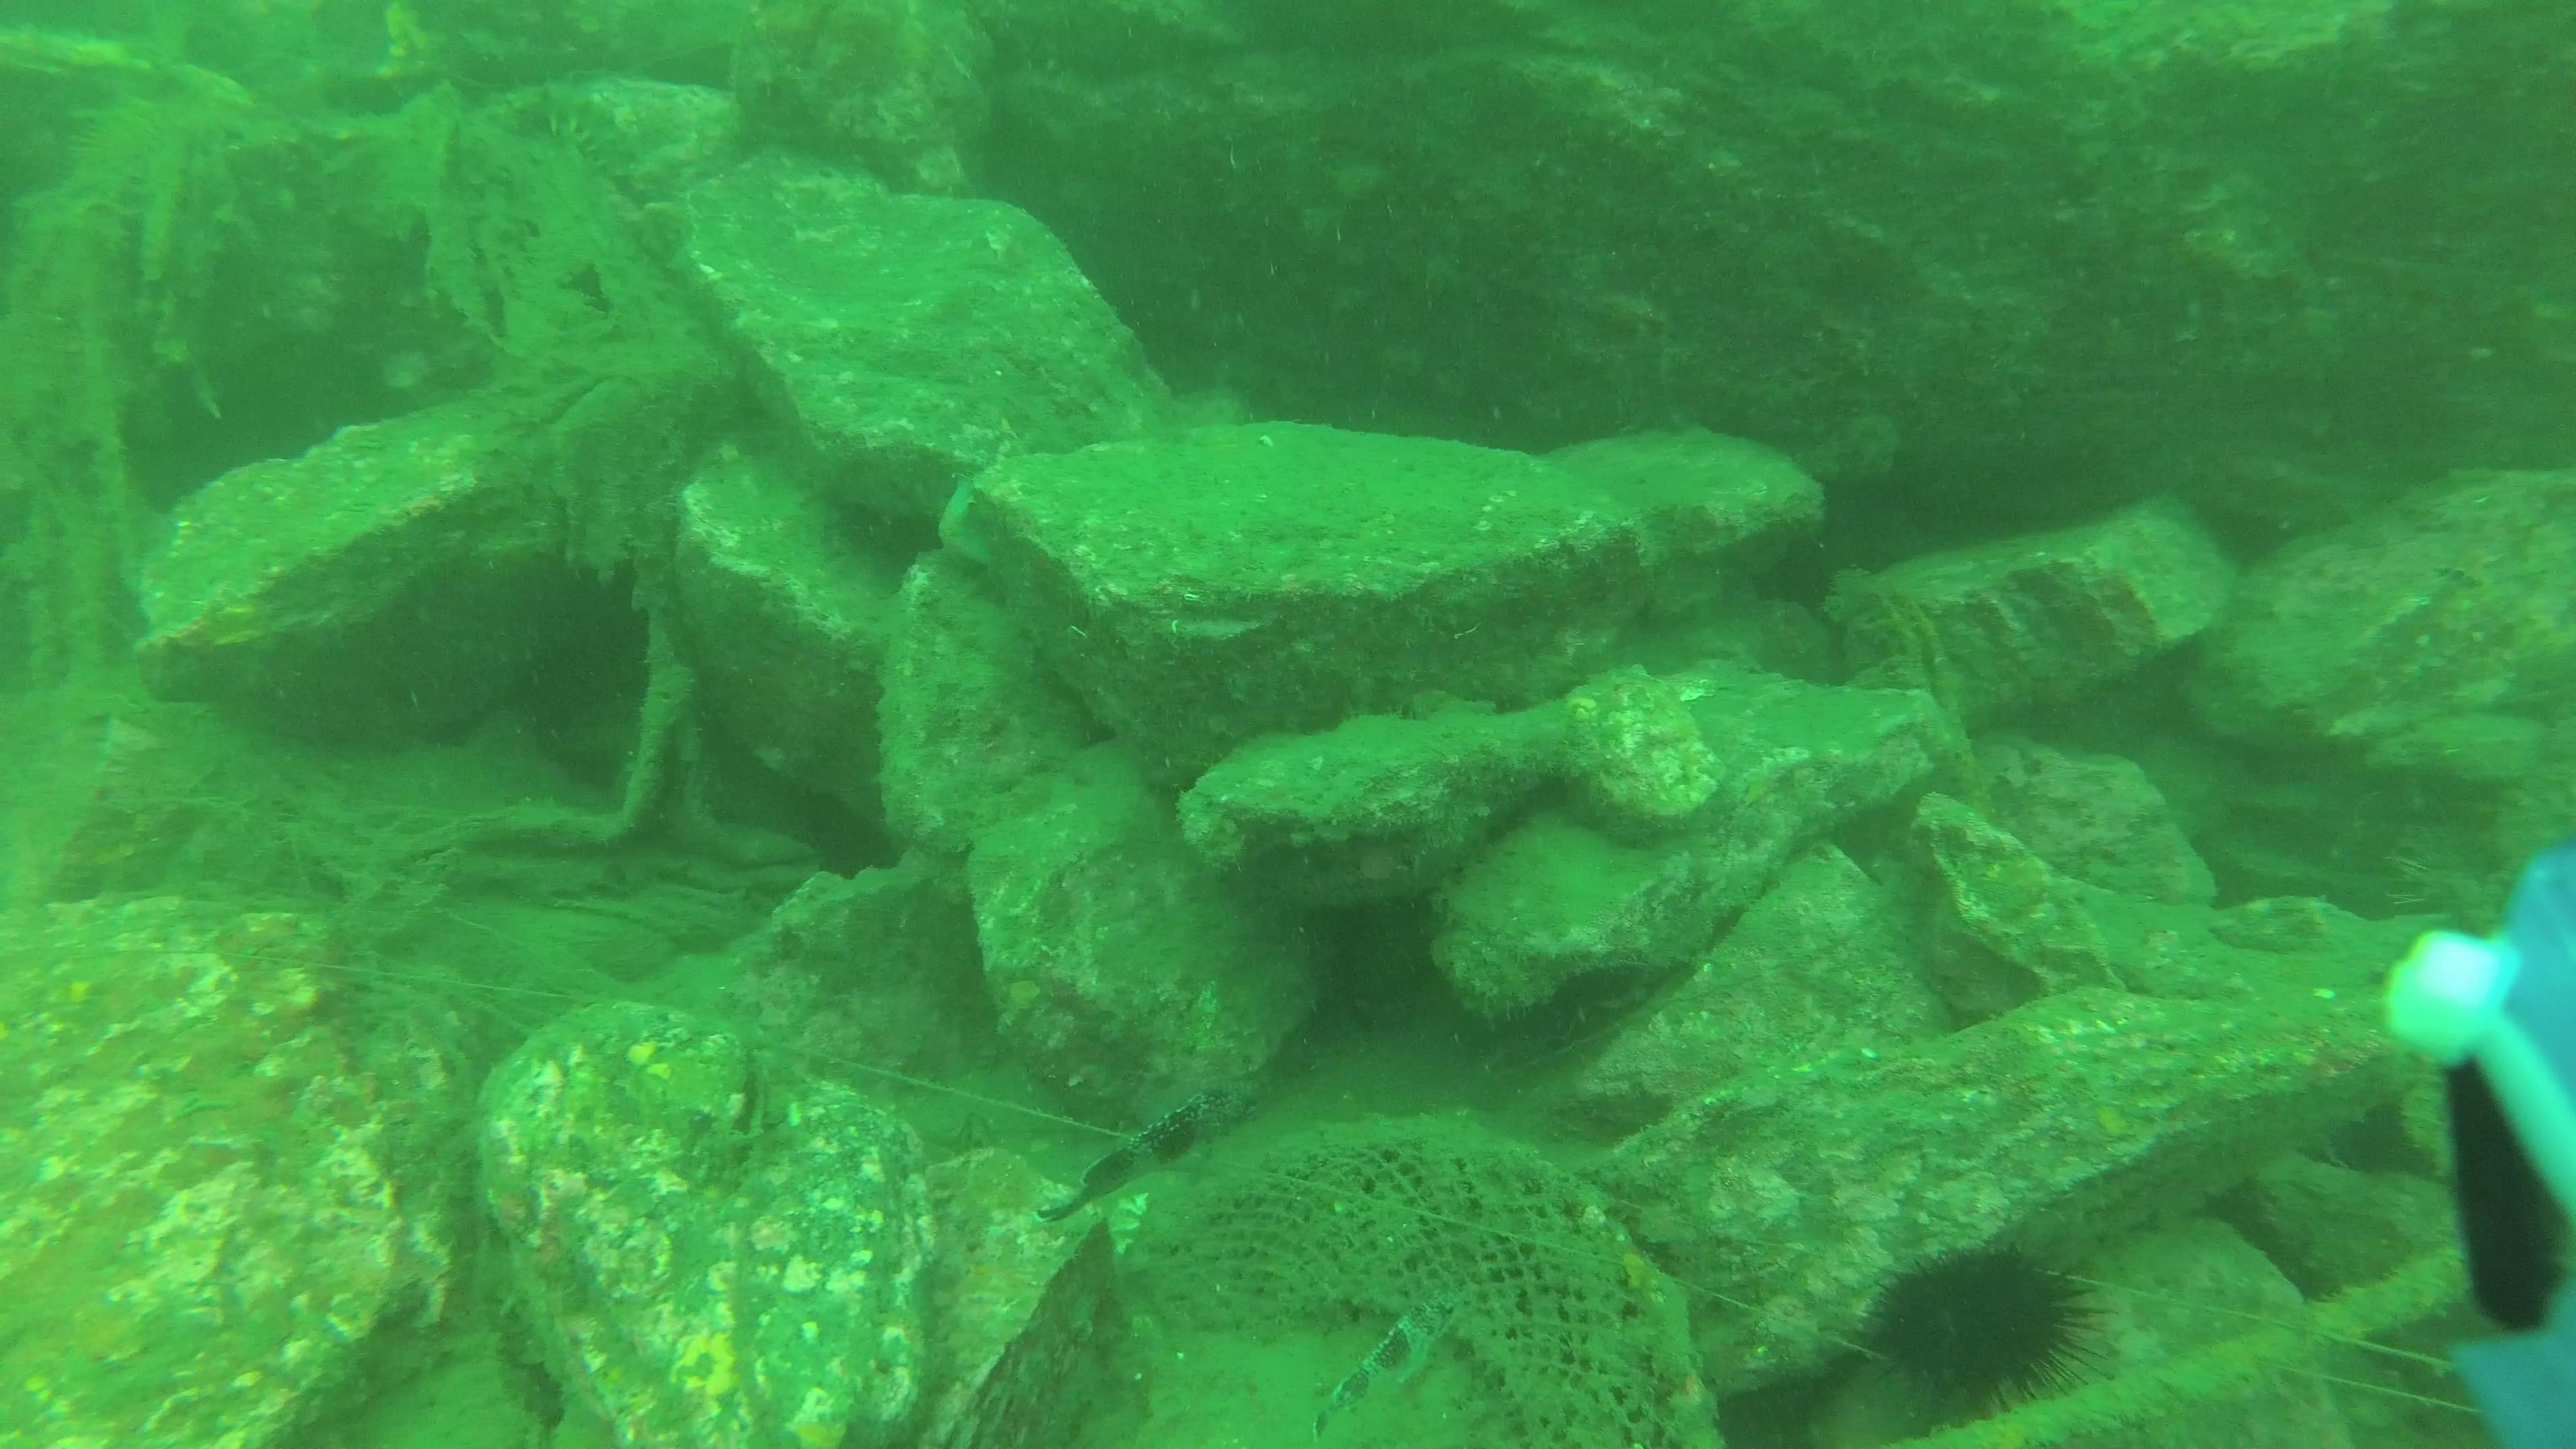echinus: (1865, 1238, 2105, 1421)
